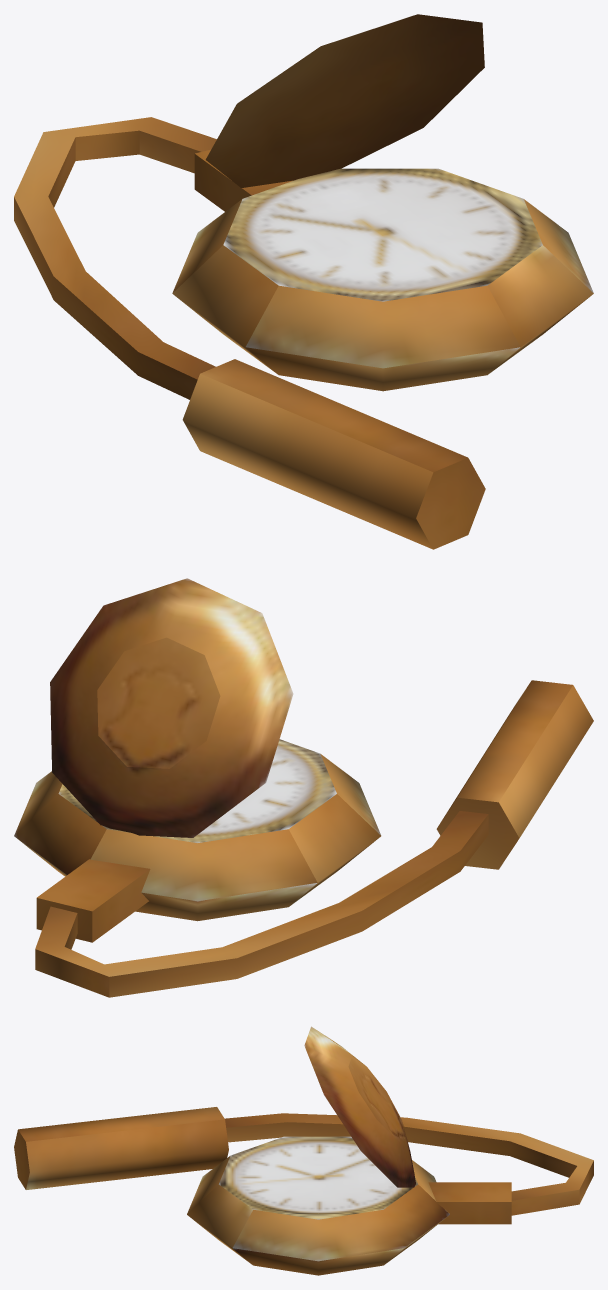
Rendered from goldwatch.obj.
The picture shows the model from 3 angles, top to bottom: view 1: azimuth 30°, elevation 25°; view 2: azimuth 150°, elevation 25°; view 3: azimuth 270°, elevation 25°; orthographic projection. The views are drawn at different scales.
Visible parts, largest first — view 1: Cylinder01; view 2: Cylinder01; view 3: Cylinder01.
Part boxes in pixels (x1,y1,x2,y2): Cylinder01: [14, 14, 593, 549]; Cylinder01: [14, 578, 593, 997]; Cylinder01: [14, 1026, 593, 1275].
Bounding box in the file's own units: 64.3 × 41.22 × 110.
